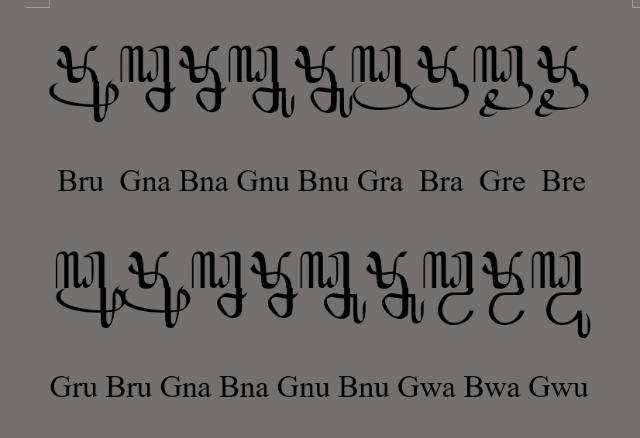Bn: (178, 44, 226, 114), (250, 251, 298, 320)
Bnu: (366, 251, 424, 325), (295, 46, 353, 118)
Br: (410, 46, 470, 110)
Bre: (535, 46, 589, 116)
Bru: (49, 45, 119, 123), (121, 252, 191, 328)
Bw: (482, 250, 524, 326)
Gn: (120, 45, 177, 113), (191, 251, 247, 320)
Gnu: (298, 251, 368, 325), (228, 45, 296, 119)
Gr: (352, 45, 412, 111)
Gre: (472, 45, 534, 117)
Gru: (55, 251, 125, 329)
Gw: (423, 252, 475, 326)
Gwu: (531, 251, 591, 339)
